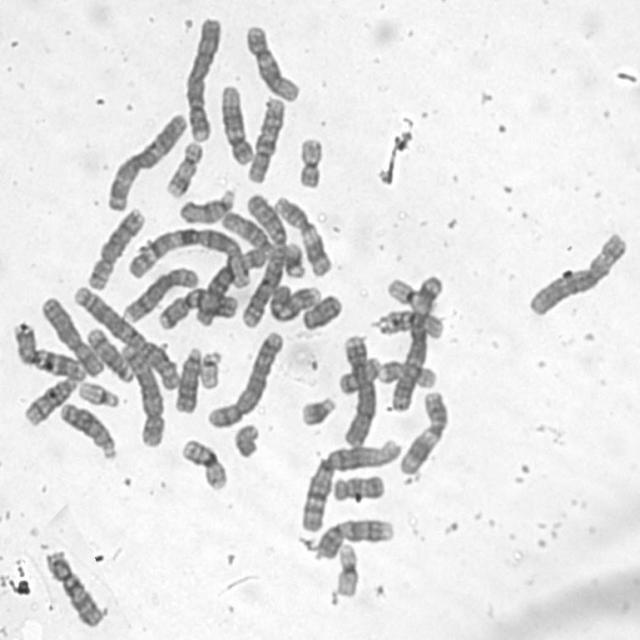A1: (299, 436, 403, 532), (126, 224, 254, 289)
A2: (70, 283, 181, 392), (238, 188, 290, 328)
A3: (103, 108, 191, 213), (389, 271, 447, 414)
B4: (182, 13, 226, 144), (339, 330, 378, 449)
B5: (204, 328, 285, 430), (118, 339, 168, 451)
C10: (40, 544, 107, 630), (244, 92, 288, 185)
C11: (271, 193, 335, 279), (395, 386, 451, 476)
C12: (242, 20, 302, 104), (216, 80, 256, 168)
C6: (524, 228, 628, 318), (192, 242, 270, 328)
C7: (10, 318, 88, 382), (153, 285, 241, 332)
C8: (84, 204, 148, 292), (119, 262, 201, 325)
C9: (313, 514, 397, 563), (268, 284, 323, 323)
D13: (56, 398, 119, 462), (172, 343, 204, 415)
D14: (21, 369, 85, 428), (82, 324, 136, 384)
D15: (219, 207, 272, 261), (176, 183, 238, 225)
E16: (177, 436, 229, 492), (376, 308, 444, 342)
E17: (161, 137, 205, 200), (374, 354, 438, 390)
E18: (329, 472, 388, 502), (302, 294, 346, 330)
F19: (384, 273, 438, 315), (333, 539, 360, 599)
F20: (296, 132, 326, 190), (340, 356, 382, 396)
G21: (296, 392, 338, 428), (281, 239, 307, 280)
G22: (76, 378, 122, 410), (196, 346, 224, 392)
X: (37, 292, 105, 378)
Y: (230, 420, 262, 461)
